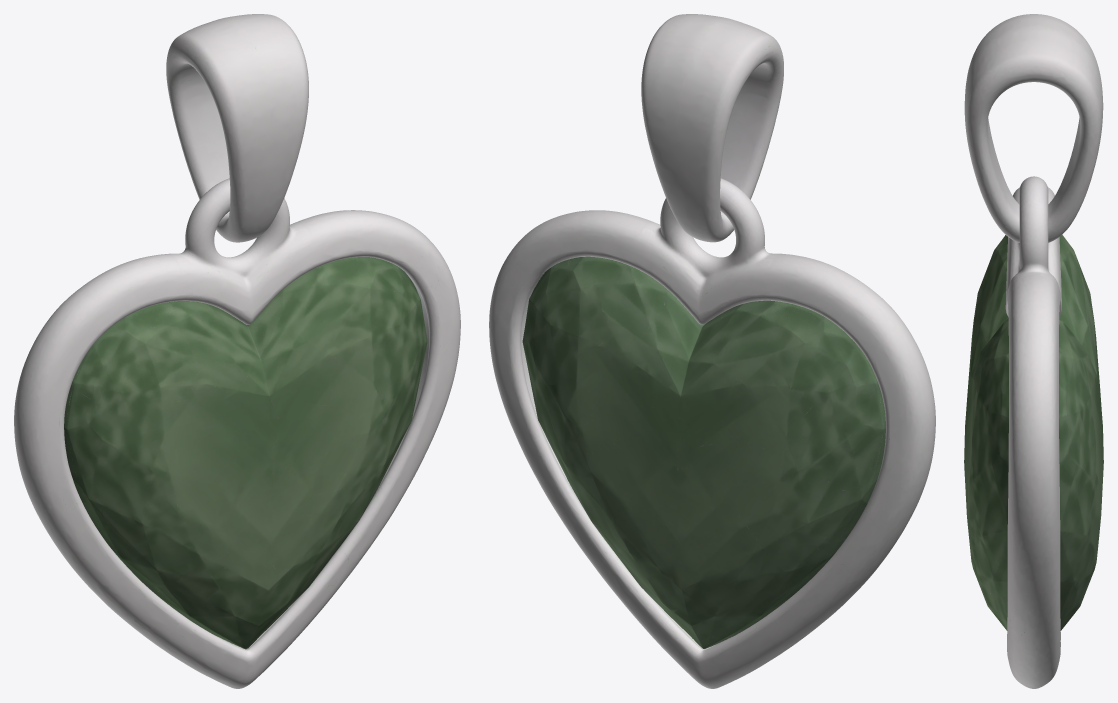
The model's file is coracao.glb.
3 views of the same model, side by side, from view 1: azimuth 30°, elevation 25°; view 2: azimuth 150°, elevation 25°; view 3: azimuth 270°, elevation 25° (orthographic).
Bounding box in the file's own units: 1.32 × 1.9 × 0.3655.
1 material, 1 textured.
